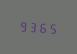five: (48, 20, 57, 35)
nine: (18, 18, 27, 33)
six: (38, 20, 47, 34)
three: (28, 19, 37, 33)
